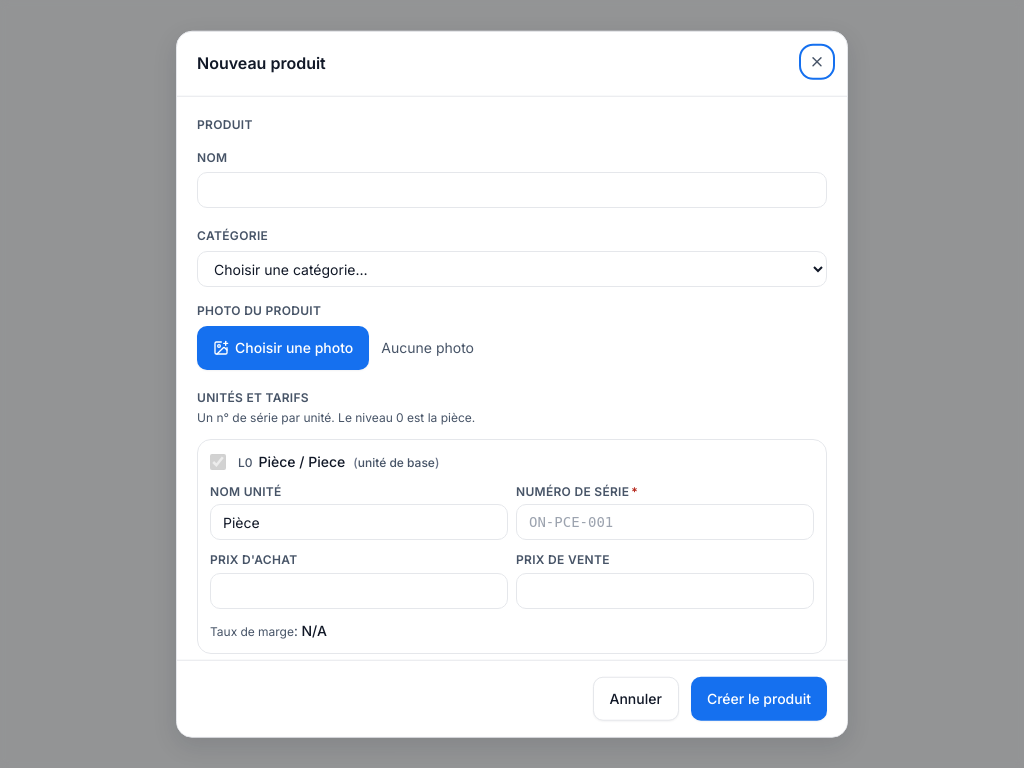
Test: ProductFormModal low-stock settings › shows Taux de marge next to cost/sell ((sell−cost)/cost)
Expected: the element with test id "unit-0-margin-rate" shows "Taux de marge", [210,623,294,638]
Expected: the element with test id "unit-0-margin-rate" shows "N/A", [302,621,327,638]
Type "100" into the field labelled "Prix d'achat".
click(359, 590); type("100")  # box [210,572,508,608]
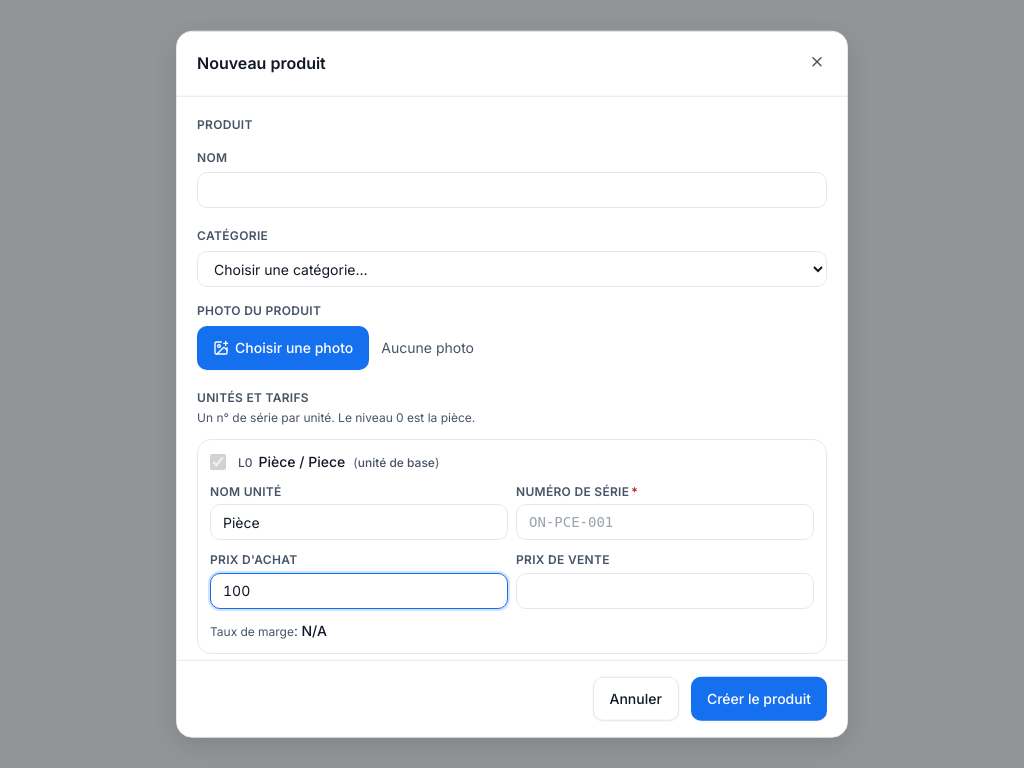
Type "135" into the field labelled "Prix de vente".
click(665, 590); type("135")  # box [516,572,814,608]
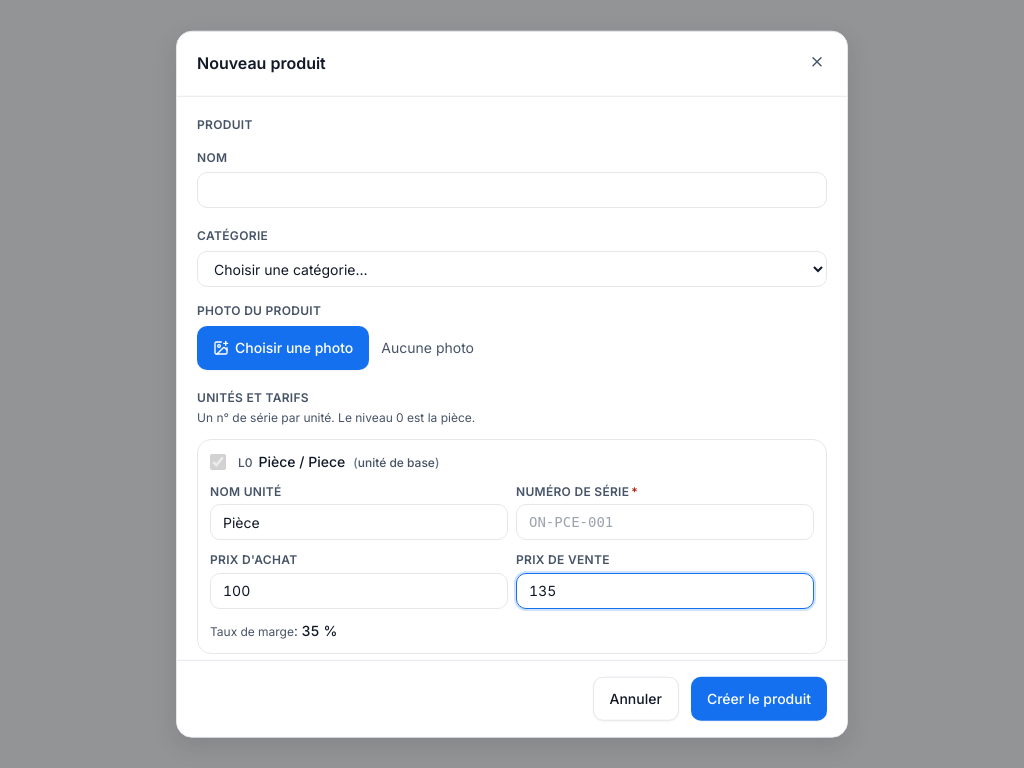
Expected: the element with test id "unit-0-margin-rate" shows "35 %", [302,621,337,638]
